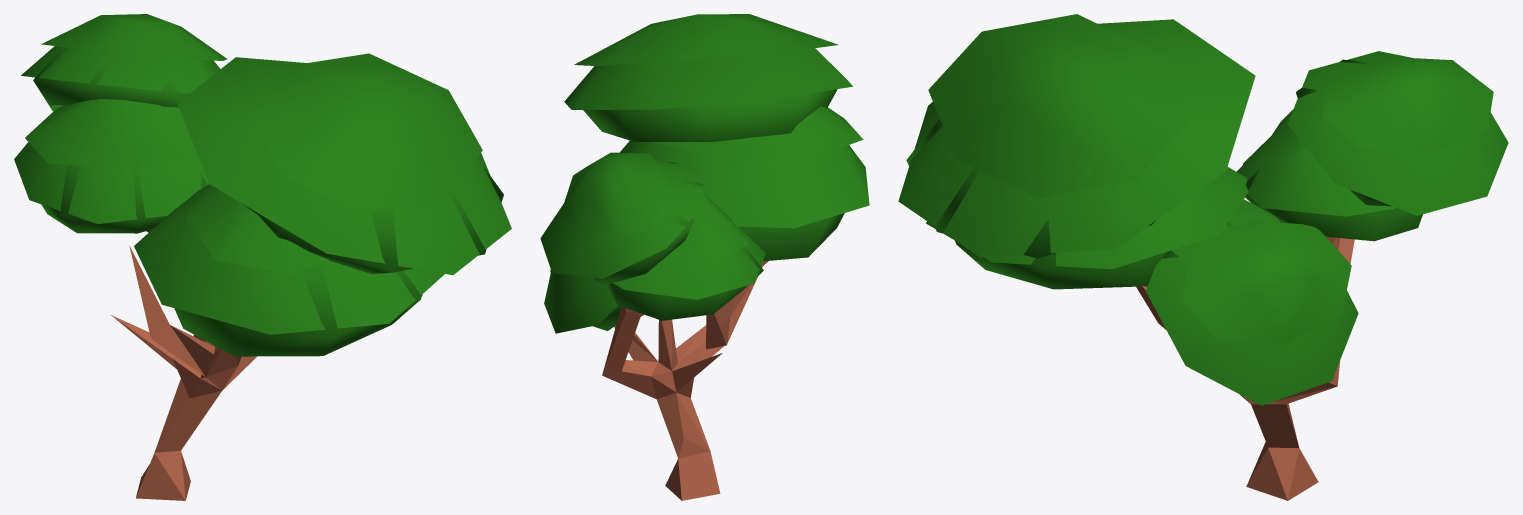
The model's file is Tree (1).fbx.
3 views of the same model, side by side, from view 1: azimuth 30°, elevation 25°; view 2: azimuth 150°, elevation 25°; view 3: azimuth 270°, elevation 25° (orthographic). The views are drawn at different scales.
Visible parts, largest first — view 1: Cube.013, Cube.008; view 2: Cube.013, Cube.008; view 3: Cube.013, Cube.008.
Part boxes in pixels (left/top/right/bottom): Cube.013: left=14, top=14, right=511, bottom=356; Cube.008: left=111, top=229, right=256, bottom=500; Cube.013: left=540, top=14, right=869, bottom=333; Cube.008: left=602, top=261, right=768, bottom=500; Cube.013: left=898, top=14, right=1508, bottom=405; Cube.008: left=1136, top=215, right=1354, bottom=500.
Bounding box in the file's own units: 1499 × 1952 × 2268.
